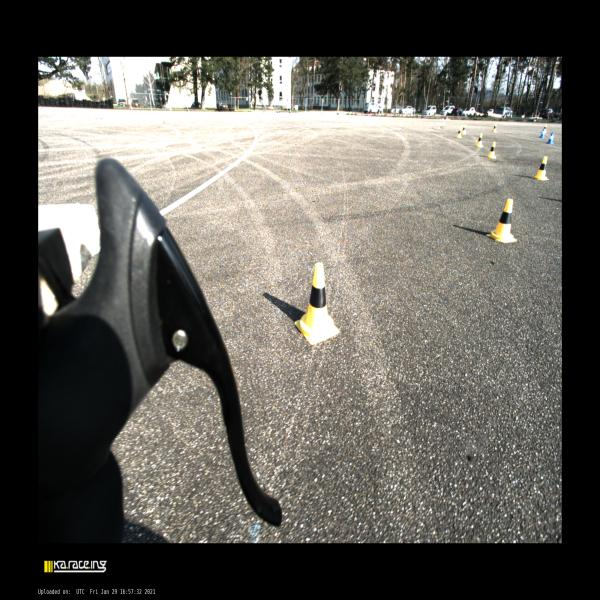blue_cone: (546, 132, 554, 144), (539, 127, 545, 138)
yellow_cone: (294, 262, 340, 345), (486, 198, 516, 242), (533, 156, 549, 180), (487, 141, 496, 159), (475, 134, 484, 148), (456, 128, 462, 138), (541, 124, 547, 133), (492, 124, 497, 132), (462, 125, 466, 134)
